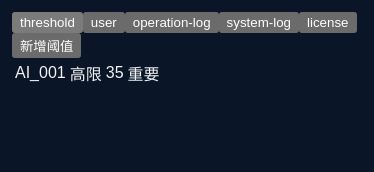
it: SettingsPage 系统设置 › 授权信息显示正确
Click the button with test id "tab-license" at (328, 22), box [299,12,356,33]
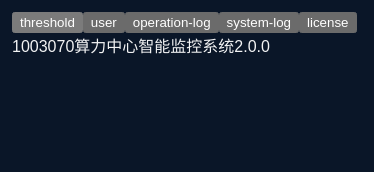
Result: the text with test id "max-points" reads "100" at [12,38,39,55]
Result: the text with test id "used-points" reads "30" at [39,38,56,55]
Result: the text with test id "remaining-points" reads "70" at [56,38,74,55]
